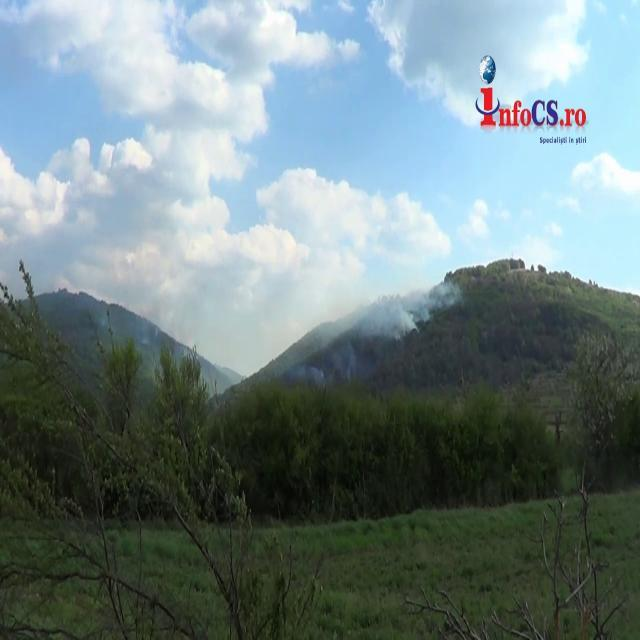Smoke: (424, 262, 469, 318), (391, 297, 418, 340)
